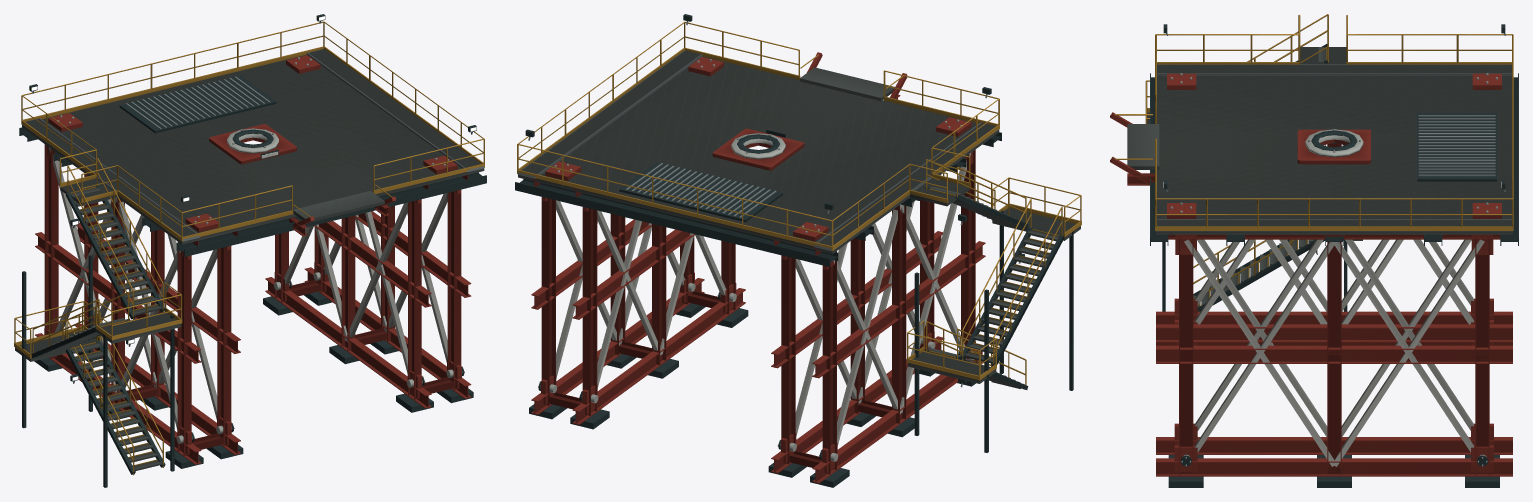
The model's file is substructure_drill_floor_lodM.glb.
3 views of the same model, side by side, from view 1: azimuth 30°, elevation 25°; view 2: azimuth 150°, elevation 25°; view 3: azimuth 270°, elevation 25° (orthographic). The views are drawn at different scales.
Parts seen in each view (by area): view 1: box_on_box_frames_oxide, drill_floor_deck, box_on_box_frames_ivory, handrails_yellow, perimeter_grating_deck, setback_dark, floor_support_beams_dark, box_on_box_frames_dark, flight_1_deck, stairs_dark, flight_1_yellow, flight_3_deck (+14 smaller); view 2: box_on_box_frames_oxide, drill_floor_deck, box_on_box_frames_ivory, handrails_yellow, floor_support_beams_dark, perimeter_grating_deck, setback_dark, flight_2_deck, box_on_box_frames_dark, flight_2_yellow, stairs_dark, setback_steel (+12 smaller); view 3: drill_floor_deck, box_on_box_frames_oxide, box_on_box_frames_ivory, handrails_yellow, perimeter_grating_deck, setback_dark, setback_steel, perimeter_grating_steel, hinges_pins_and_gussets_oxide, floor_support_beams_dark, derrick_mounts_oxide, rotary_table_oxide (+11 smaller).
Part boxes in pixels (bbox=[...]): box_on_box_frames_oxide: bbox=[35, 144, 471, 464]; drill_floor_deck: bbox=[22, 55, 484, 244]; box_on_box_frames_ivory: bbox=[49, 147, 447, 429]; handrails_yellow: bbox=[21, 21, 484, 241]; perimeter_grating_deck: bbox=[26, 49, 479, 236]; setback_dark: bbox=[119, 75, 276, 133]; floor_support_beams_dark: bbox=[19, 127, 486, 256]; box_on_box_frames_dark: bbox=[34, 291, 473, 468]; flight_1_deck: bbox=[15, 330, 162, 470]; stairs_dark: bbox=[22, 255, 174, 487]; flight_1_yellow: bbox=[14, 301, 163, 475]; flight_3_deck: bbox=[71, 187, 162, 315]; box_on_box_frames_oxide: bbox=[531, 149, 985, 483]; drill_floor_deck: bbox=[518, 56, 999, 254]; box_on_box_frames_ivory: bbox=[556, 153, 971, 445]; handrails_yellow: bbox=[517, 21, 999, 250]; floor_support_beams_dark: bbox=[515, 132, 1001, 266]; perimeter_grating_deck: bbox=[522, 51, 994, 245]; setback_dark: bbox=[619, 162, 782, 222]; flight_2_deck: bbox=[963, 208, 1080, 363]; box_on_box_frames_dark: bbox=[529, 303, 975, 487]; flight_2_yellow: bbox=[962, 177, 1081, 365]; stairs_dark: bbox=[914, 210, 1073, 452]; setback_steel: bbox=[625, 163, 776, 217]; drill_floor_deck: bbox=[1156, 76, 1512, 234]; box_on_box_frames_oxide: bbox=[1156, 143, 1512, 476]; box_on_box_frames_ivory: bbox=[1184, 239, 1484, 466]; handrails_yellow: bbox=[1155, 34, 1513, 230]; perimeter_grating_deck: bbox=[1157, 65, 1511, 226]; setback_dark: bbox=[1417, 113, 1496, 181]; setback_steel: bbox=[1418, 115, 1495, 176]; perimeter_grating_steel: bbox=[1156, 64, 1512, 231]; hinges_pins_and_gussets_oxide: bbox=[1174, 239, 1493, 472]; floor_support_beams_dark: bbox=[1150, 73, 1518, 245]; derrick_mounts_oxide: bbox=[1167, 73, 1501, 218]; rotary_table_oxide: bbox=[1297, 129, 1370, 164].
Size of the model in its own units: 15.26 by 10.54 by 12.83.
Materials: 9 (9 with a texture image).
